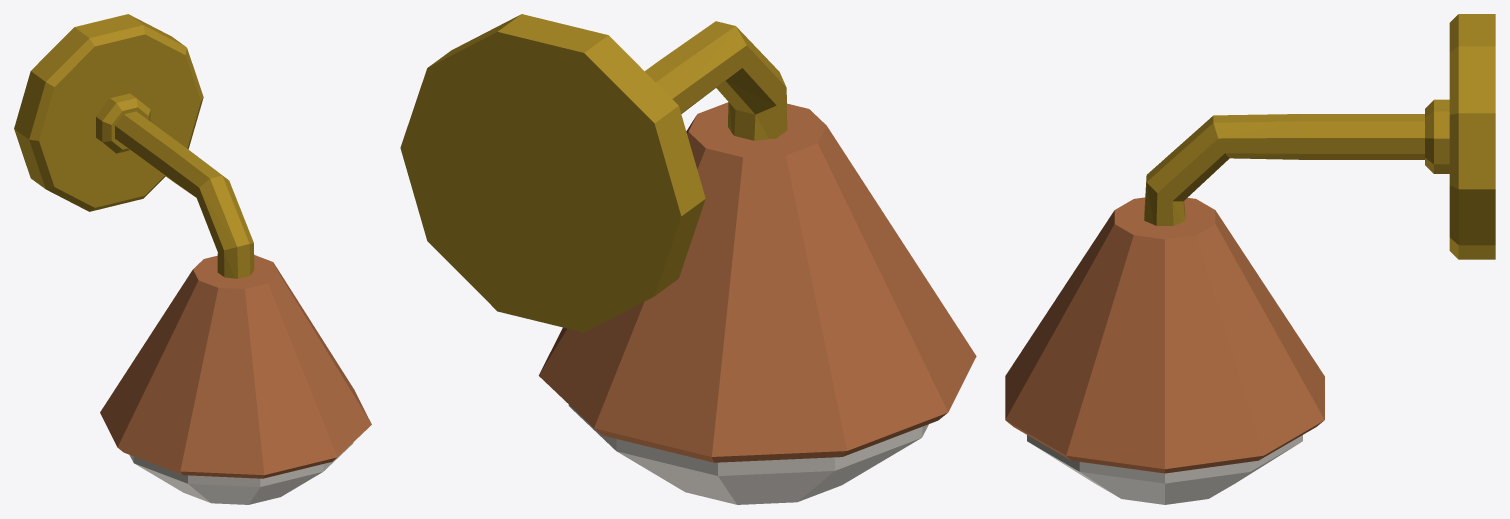
Rendered from cafe-wall-sconce-1ee40b.glb.
The picture shows the model from 3 angles, left to right: view 1: azimuth 30°, elevation 25°; view 2: azimuth 150°, elevation 25°; view 3: azimuth 270°, elevation 25°; orthographic projection. The views are drawn at different scales.
Parts seen in each view (by area): view 1: cafe-wall-sconce; view 2: cafe-wall-sconce; view 3: cafe-wall-sconce.
Part boxes in pixels (x1,y1,x2,y2): cafe-wall-sconce: (14, 14, 371, 504); cafe-wall-sconce: (400, 14, 976, 504); cafe-wall-sconce: (1005, 14, 1495, 504).
Bounding box in the file's own units: 0.19 × 0.2766 × 0.2774.
